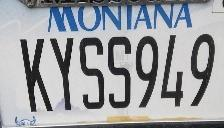4: (160, 33, 186, 109)
9: (186, 32, 219, 109), (133, 34, 162, 109)
K: (15, 36, 57, 113)
S: (77, 35, 106, 110), (104, 35, 133, 110)
Y: (46, 36, 80, 112)
